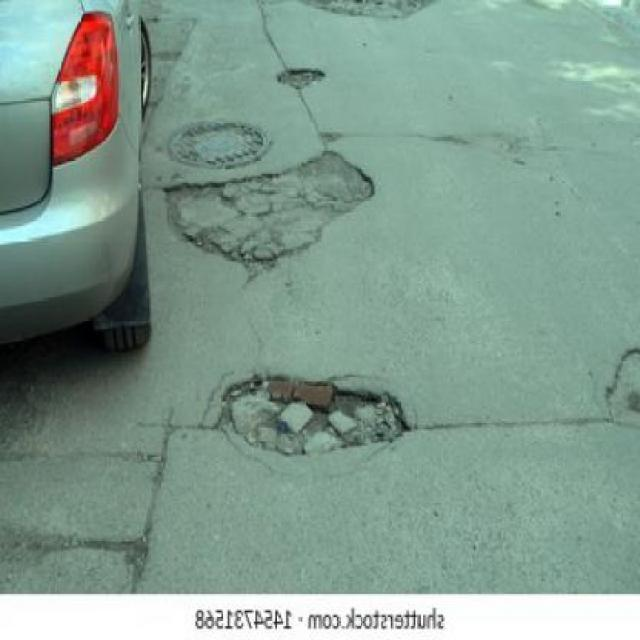Pothole: (160, 148, 377, 268), (215, 369, 415, 460)
